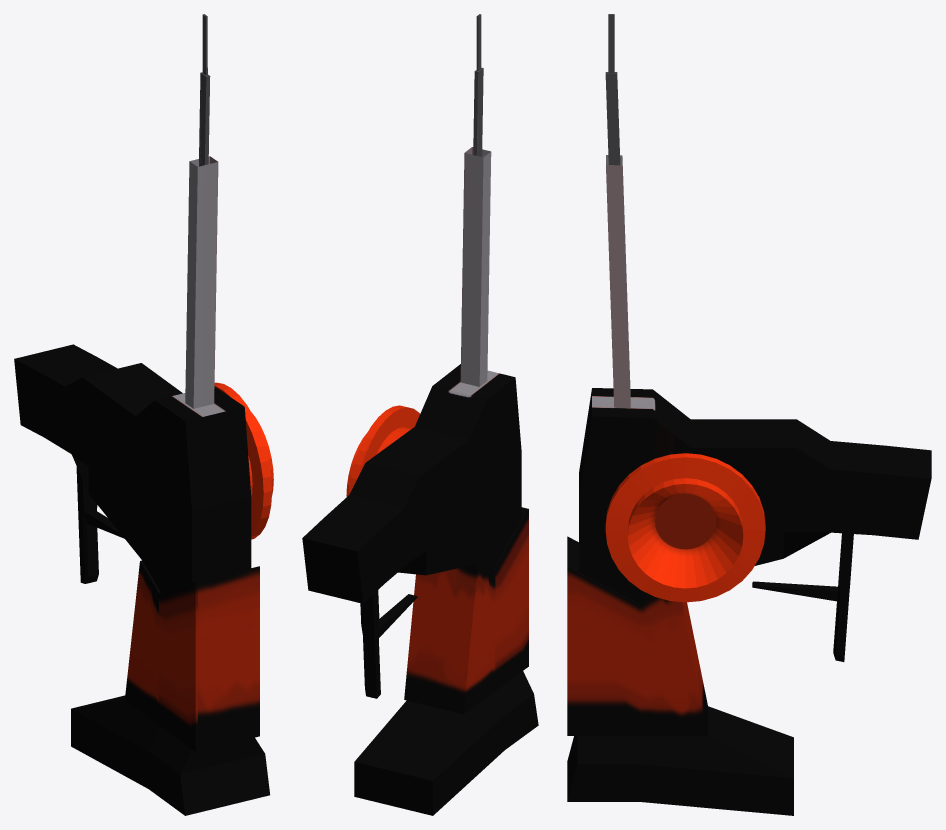
Rendered from controledecarrinho.fbx.
3 views of the same model, side by side, from view 1: azimuth 30°, elevation 25°; view 2: azimuth 150°, elevation 25°; view 3: azimuth 270°, elevation 25° (orthographic). The views are drawn at different scales.
Visible parts, largest first — view 1: Cube.001, Cylinder; view 2: Cube.001, Cylinder; view 3: Cube.001, Cylinder.
Part boxes in pixels (<box>): Cube.001: <box>14,14,269,815</box>; Cylinder: <box>214,382,273,539</box>; Cube.001: <box>302,14,538,815</box>; Cylinder: <box>346,405,419,496</box>; Cube.001: <box>567,14,931,815</box>; Cylinder: <box>605,453,765,602</box>.
Bounding box in the file's own units: 256 × 1621 × 685.
